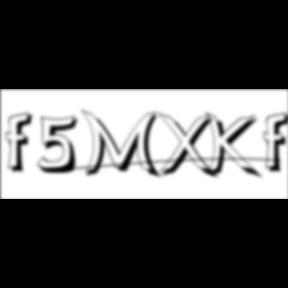5: (36, 114, 84, 176)
K: (206, 110, 264, 182)
M: (80, 108, 164, 181)
X: (157, 112, 221, 182)
f: (6, 111, 38, 175)
